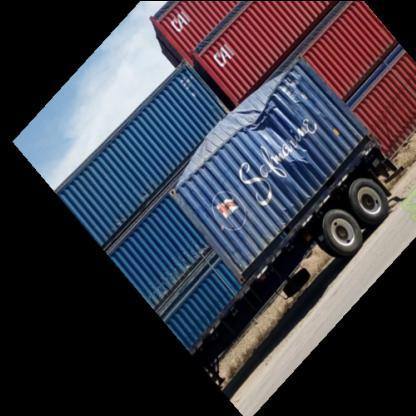Damage: (182, 70, 336, 210)
